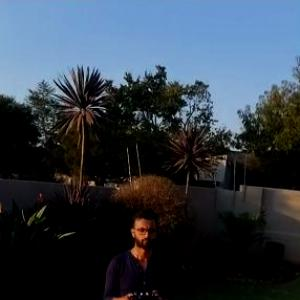follow: (100, 202, 176, 299)
